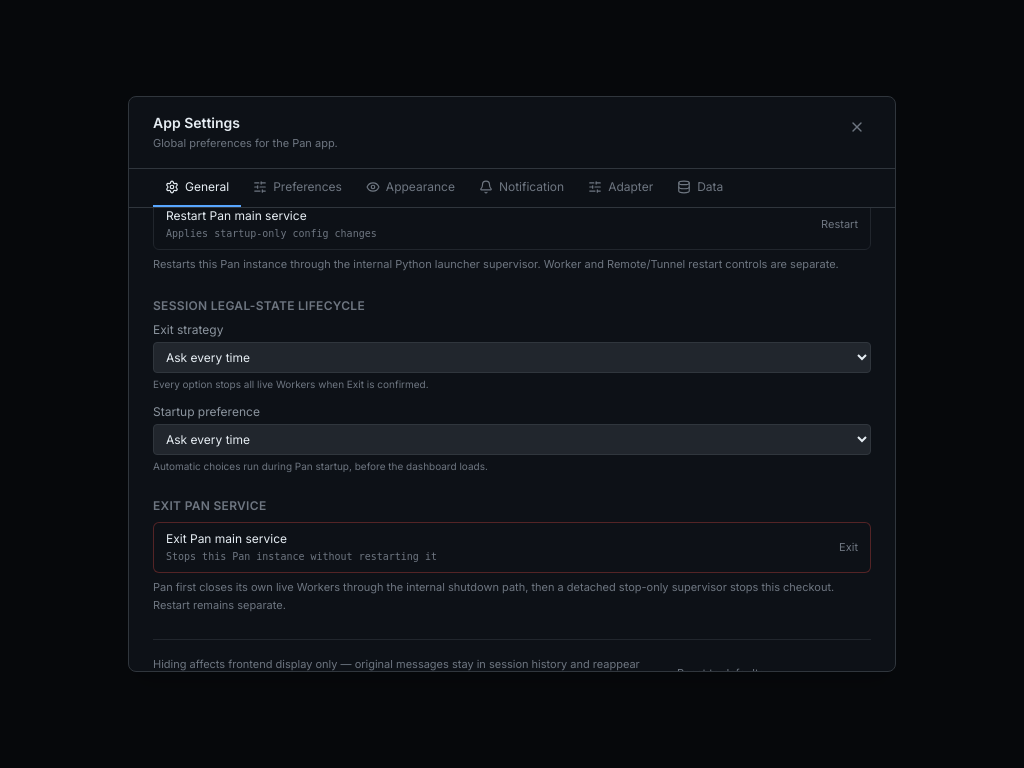
Test: AppSettingsModal › shows lifecycle preference save errors and keeps the last saved value
The image size is (1024, 768).
(page scrolled)
Select "Automatically wake legal running Sessions" in the dropdown with id "session-startup-preference" at (512, 440), box [153,424,871,455]
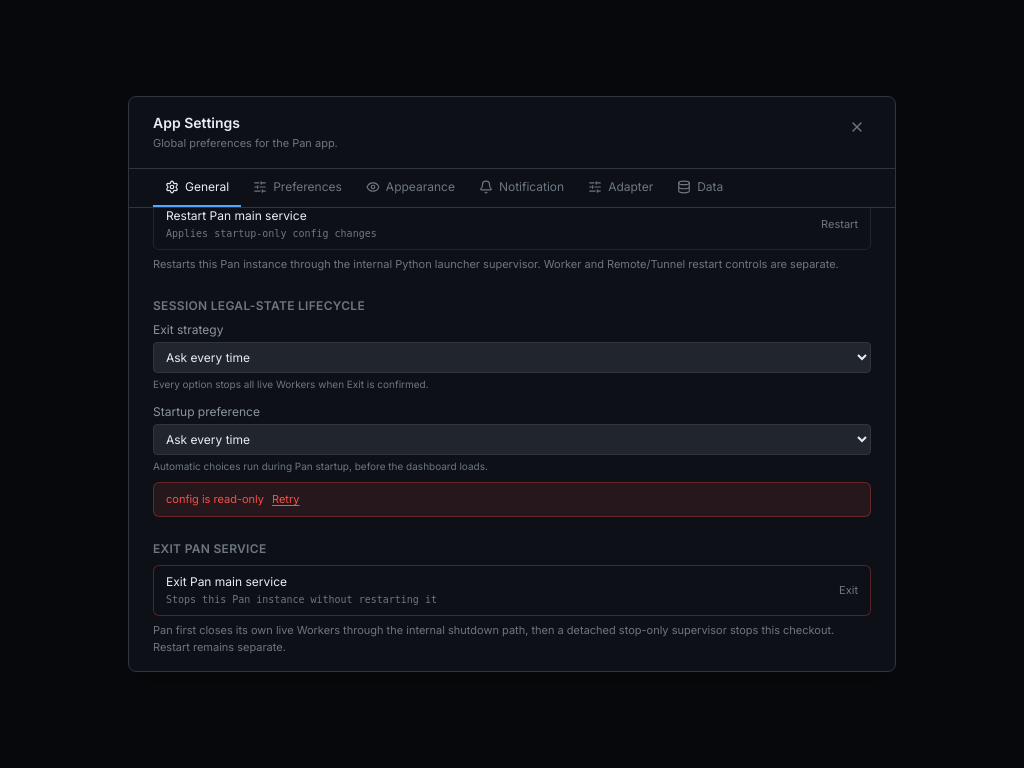
Check: the message "config is read-only Retry" is shown, box [153,482,871,516]
Check: the message shows "config is read-only", box [166,492,264,506]
